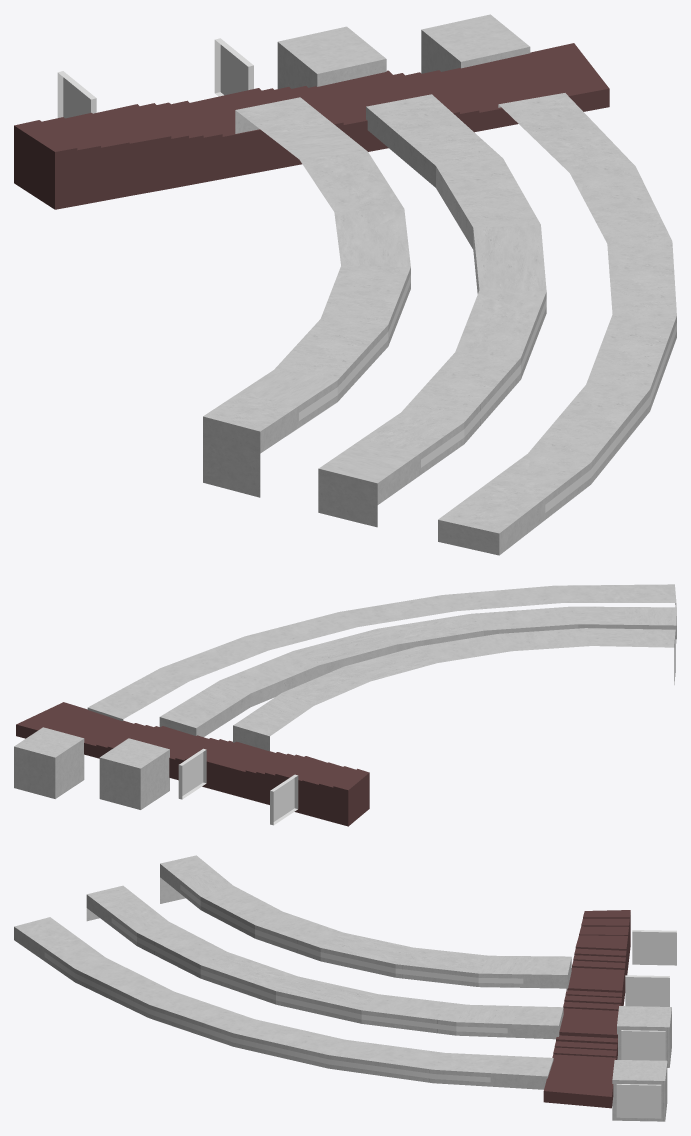
Rendered from Others2.fbx.
The picture shows the model from 3 angles, top to bottom: view 1: azimuth 30°, elevation 25°; view 2: azimuth 150°, elevation 25°; view 3: azimuth 270°, elevation 25°; orthographic projection. The views are drawn at different scales.
Visible parts, largest first — view 1: Box012, Box013, Box014, Box016, Glow004, Glow005; view 2: Box012, Box013, Box014, Box016, Glow004, Glow005; view 3: Box012, Box013, Box016, Box014, Glow005, Glow003, Glow004, Glow001.
Part boxes in pixels (box(x1,y1,x2,y2)): Box012: box(203, 93, 676, 555); Box013: box(14, 43, 609, 209); Box014: box(277, 26, 386, 88); Box016: box(421, 14, 530, 73); Glow004: box(214, 38, 253, 96); Glow005: box(57, 71, 96, 118); Box012: box(87, 584, 676, 751); Box013: box(16, 702, 369, 826); Box014: box(99, 738, 169, 809); Box016: box(14, 727, 84, 798); Glow004: box(178, 748, 206, 799); Glow005: box(270, 774, 298, 825); Box012: box(14, 855, 571, 1089); Box013: box(543, 910, 630, 1108); Box016: box(612, 1060, 667, 1121); Box014: box(617, 1006, 671, 1067); Glow005: box(632, 930, 676, 965); Glow003: box(616, 1084, 661, 1118); Glow004: box(625, 975, 669, 1006); Glow001: box(621, 1030, 665, 1060).
Bounding box in the file's own units: 16.83 × 2.43 × 22.2.
